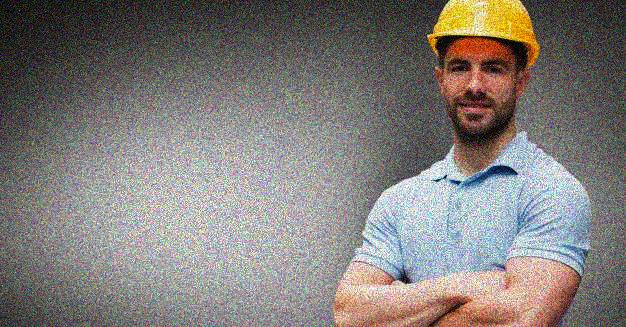helmet: (424, 1, 544, 137)
